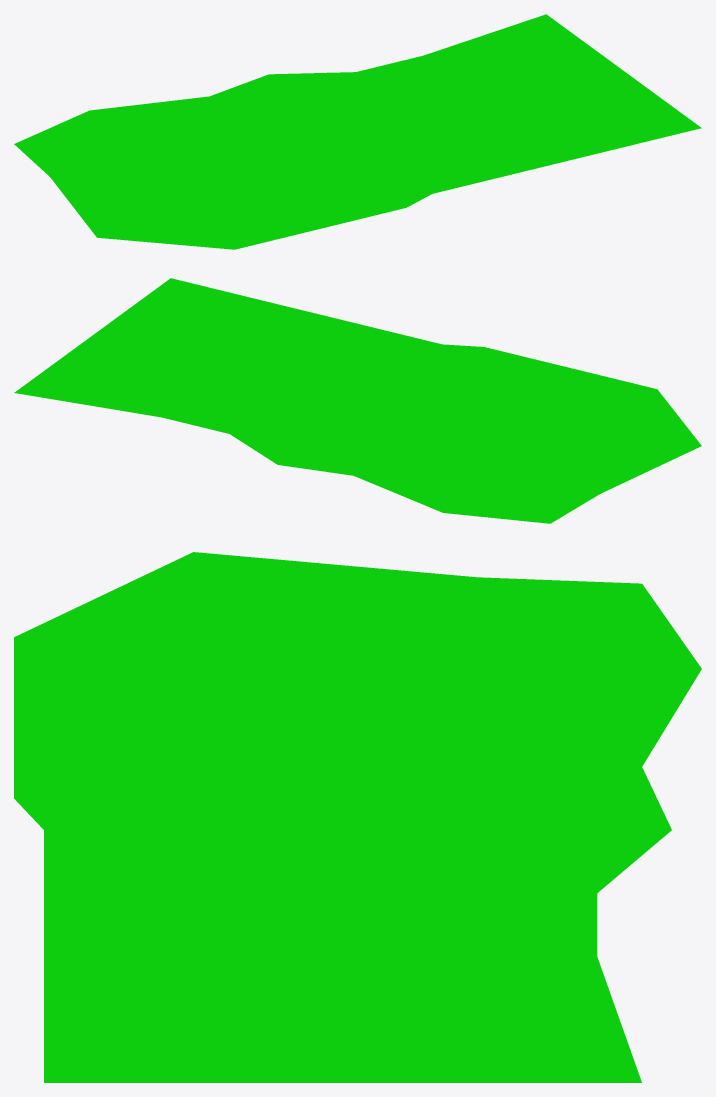
3 views of the same model, one above another, from view 1: azimuth 30°, elevation 25°; view 2: azimuth 150°, elevation 25°; view 3: azimuth 270°, elevation 25° (orthographic). The views are drawn at different scales.
Parts seen in each view (by area): view 1: BG001_1012_00_c01; view 2: BG001_1012_00_c01; view 3: BG001_1012_00_c01.
Part boxes in pixels (<box>): BG001_1012_00_c01: <box>14,14,701,249</box>; BG001_1012_00_c01: <box>14,278,701,523</box>; BG001_1012_00_c01: <box>14,552,701,1082</box>.
Size of the model in its own units: 840 by 0 by 460.
